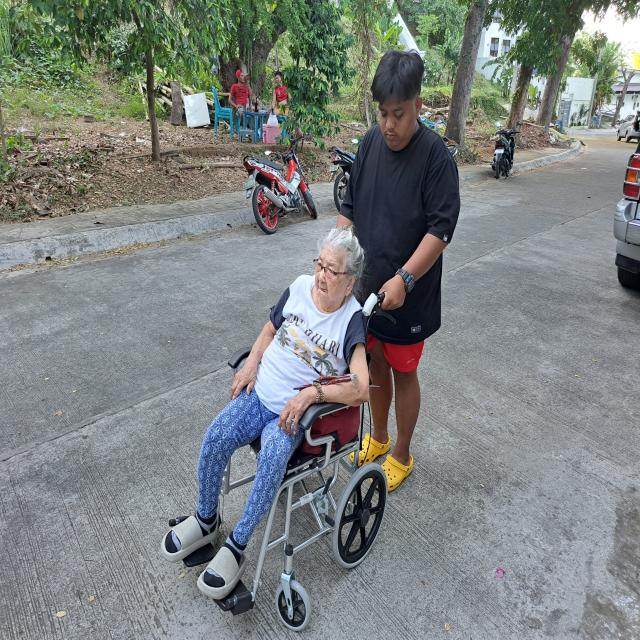wheelchairs: (173, 290, 395, 630)
